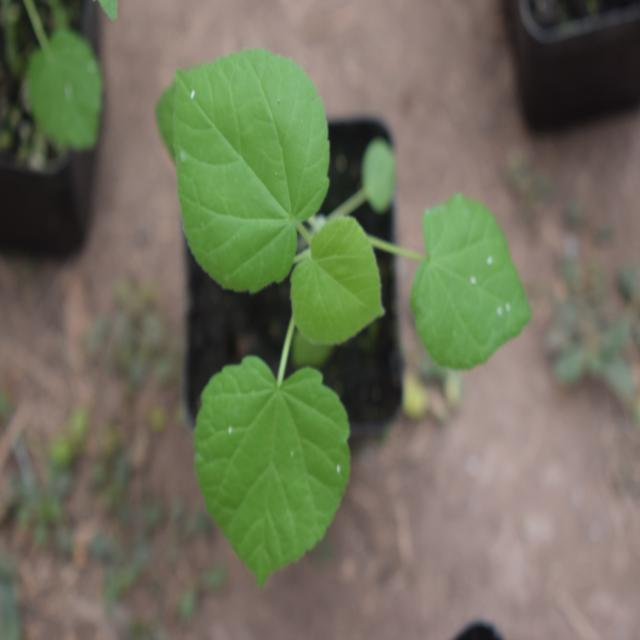abutilon theophrasti: (140, 43, 537, 576)
